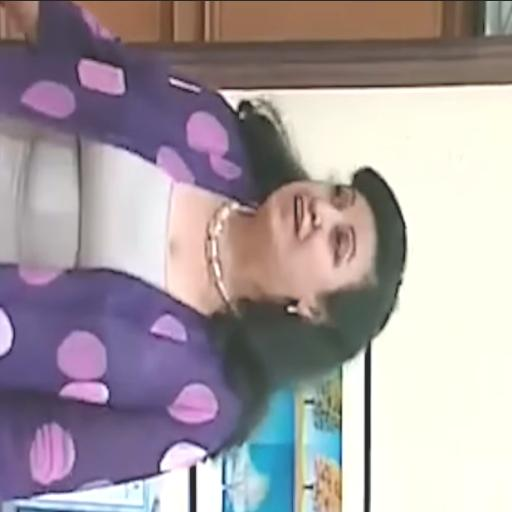jannet: (254, 181, 375, 319)
